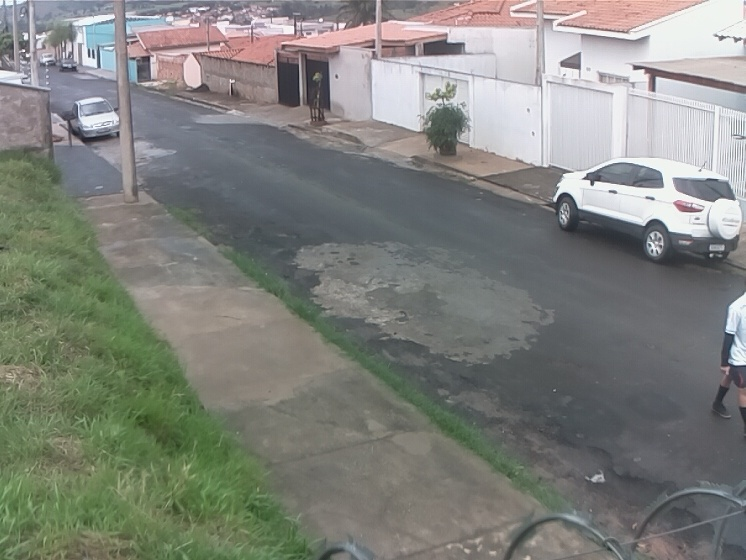person: (708, 283, 746, 428)
